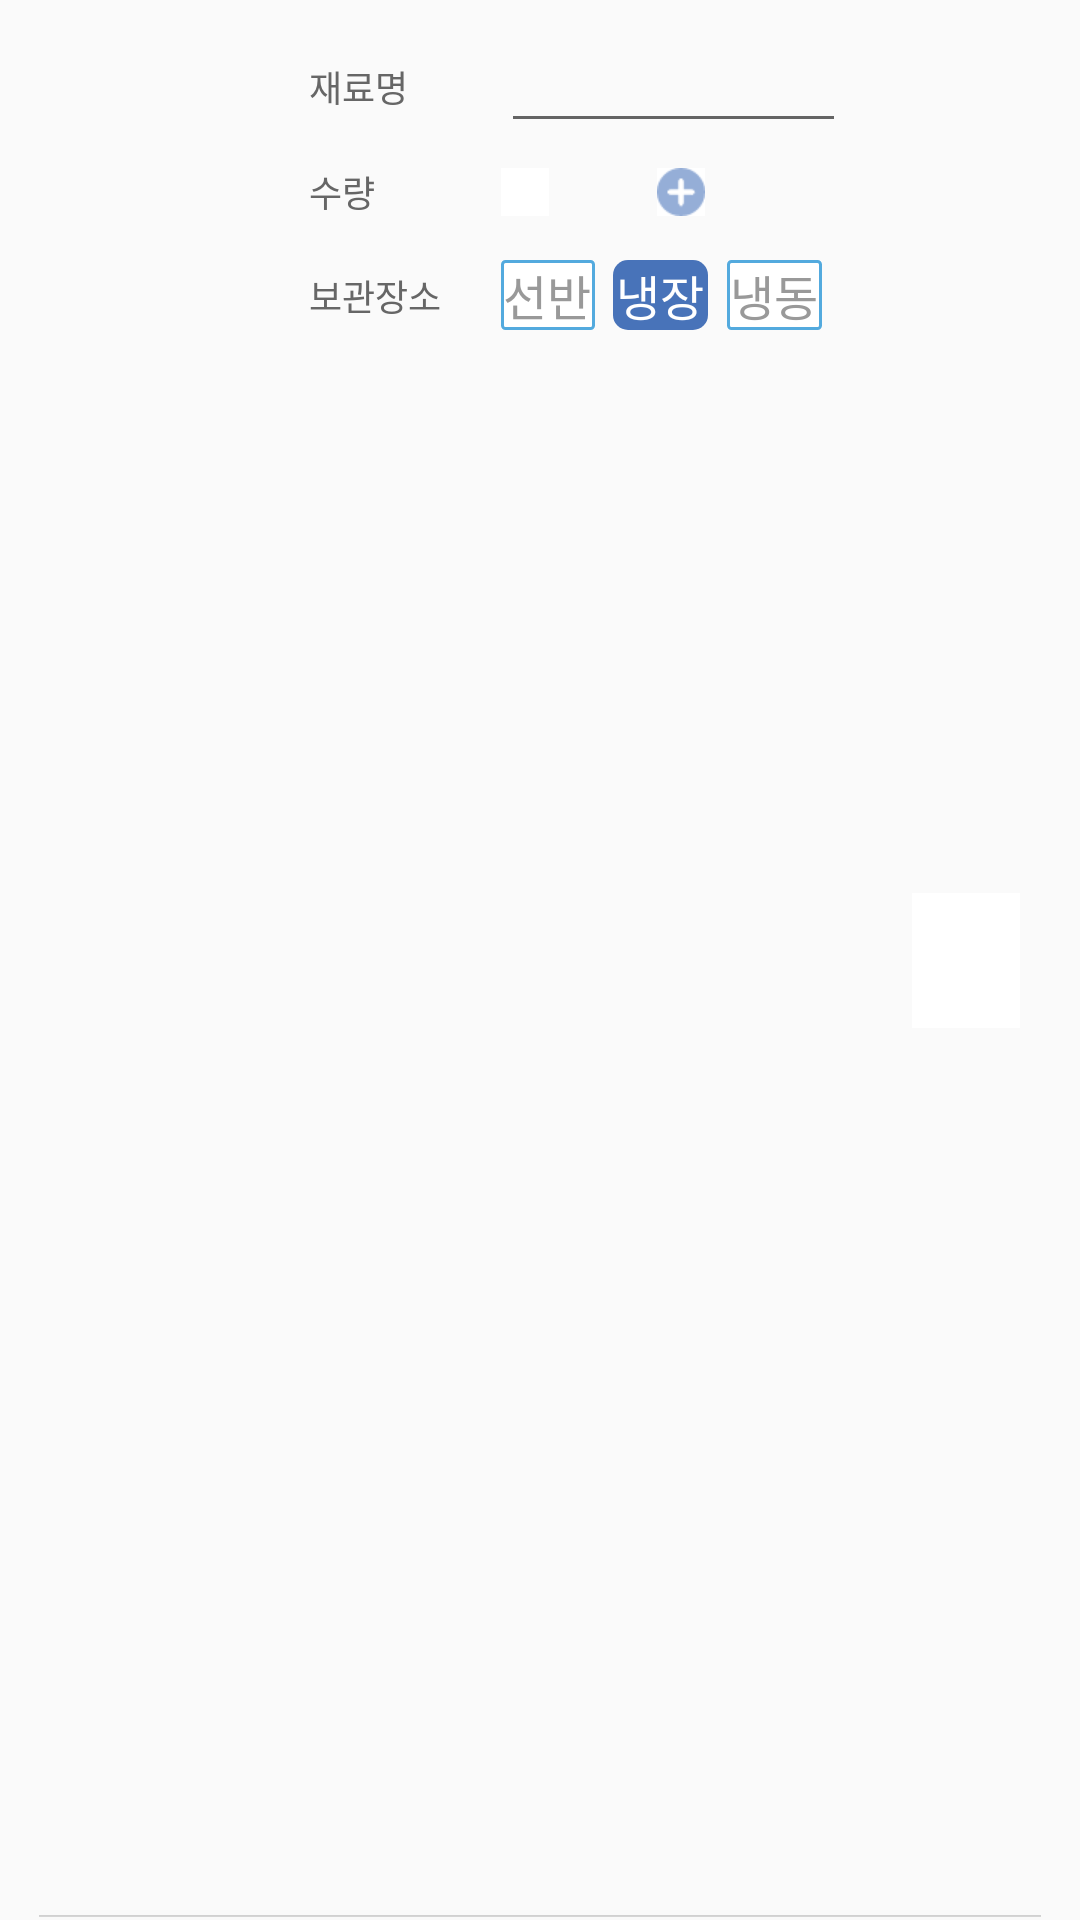

Where to tap for icons on this 1080×1920 app screen, as [x,y]:
plus: [681,192]
